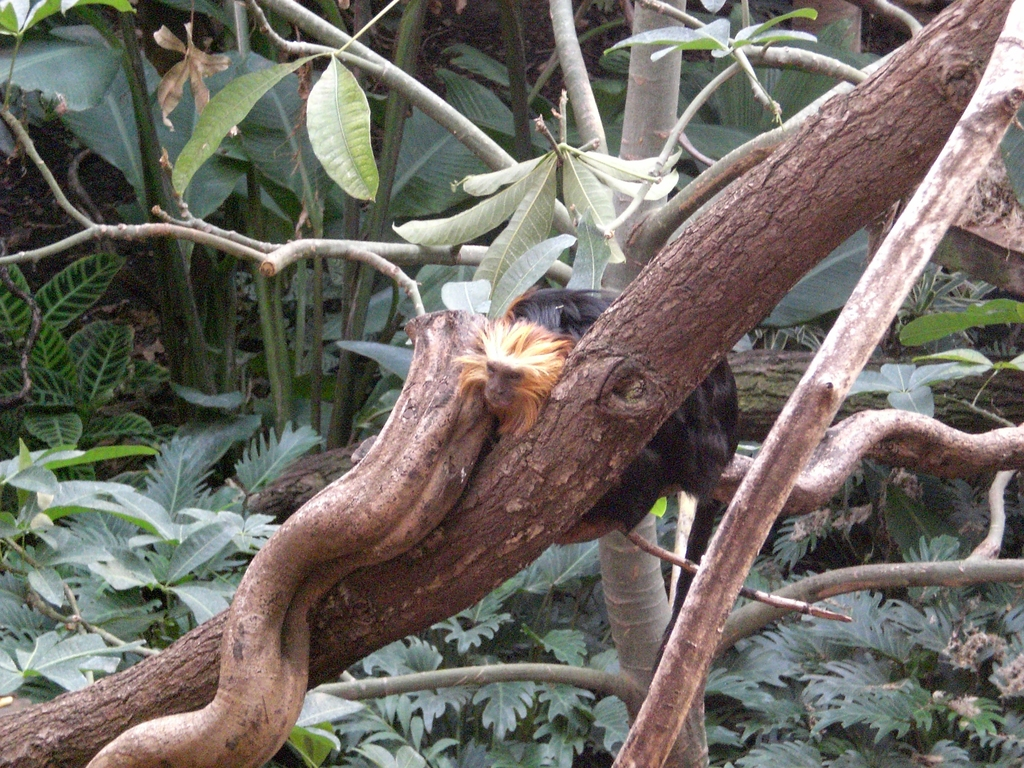Animal: (449, 285, 844, 614)
